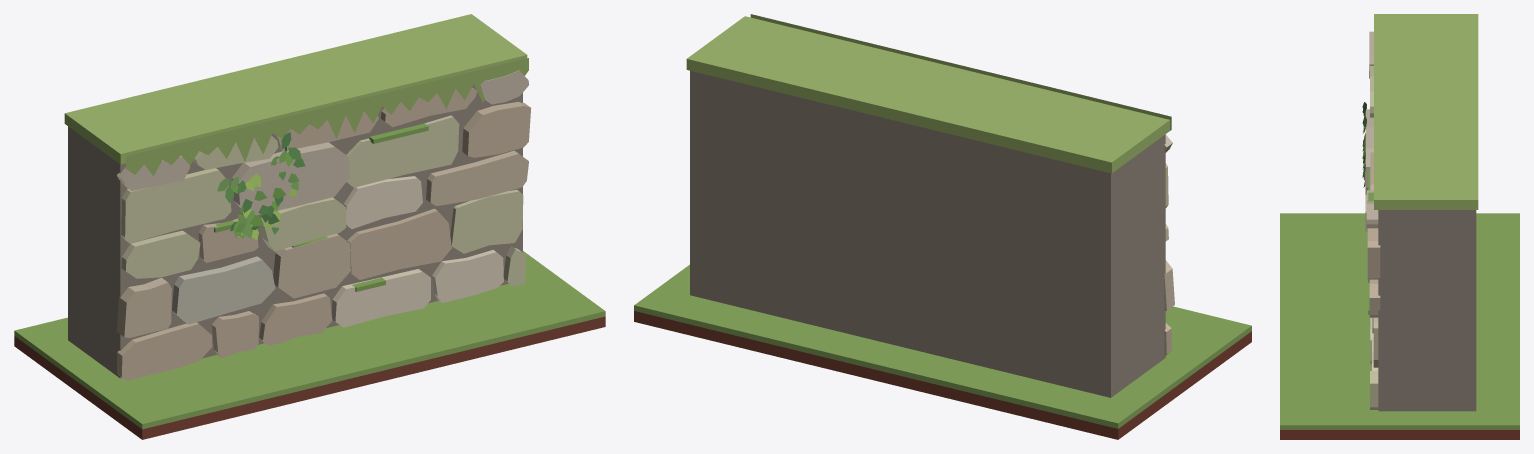
File: rock-wall.glb
3 views of the same model, side by side, from view 1: azimuth 30°, elevation 25°; view 2: azimuth 150°, elevation 25°; view 3: azimuth 270°, elevation 25° (orthographic). The views are drawn at different scales.
Visible parts, largest first — view 1: rock-wall; view 2: rock-wall; view 3: rock-wall.
Boxes of the visible parts, left/top/right/bottom form: rock-wall: left=14, top=14, right=605, bottom=439; rock-wall: left=634, top=14, right=1251, bottom=439; rock-wall: left=1280, top=14, right=1519, bottom=439.
Bounding box in the file's own units: 4.6 × 2.3 × 2.2.
